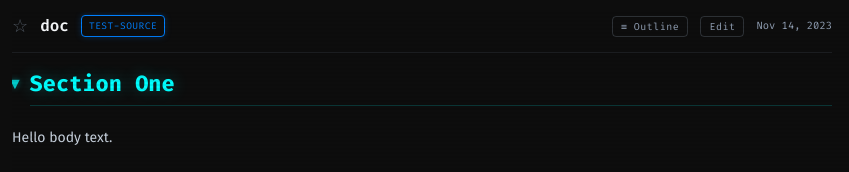
KnowledgePreview collapsible sections › clicking a heading collapses its body, clicking again expands it
Expected: the text "Hello body text." is shown, [12, 130, 112, 146]
Click the heading "Section One".
click(431, 89)  # box [30, 71, 832, 106]
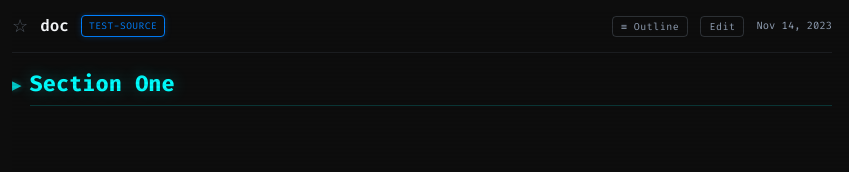
Expected: the text "Hello body text." is gone
Click the heading "Section One".
click(431, 89)  # box [30, 71, 832, 106]
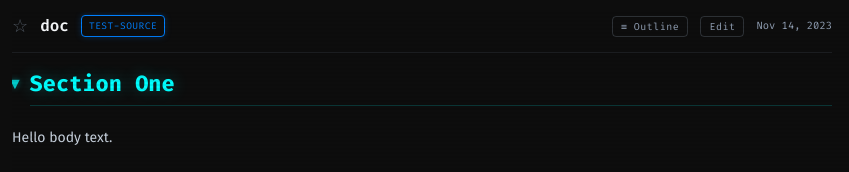
Expected: the text "Hello body text." is shown, [12, 130, 112, 146]
